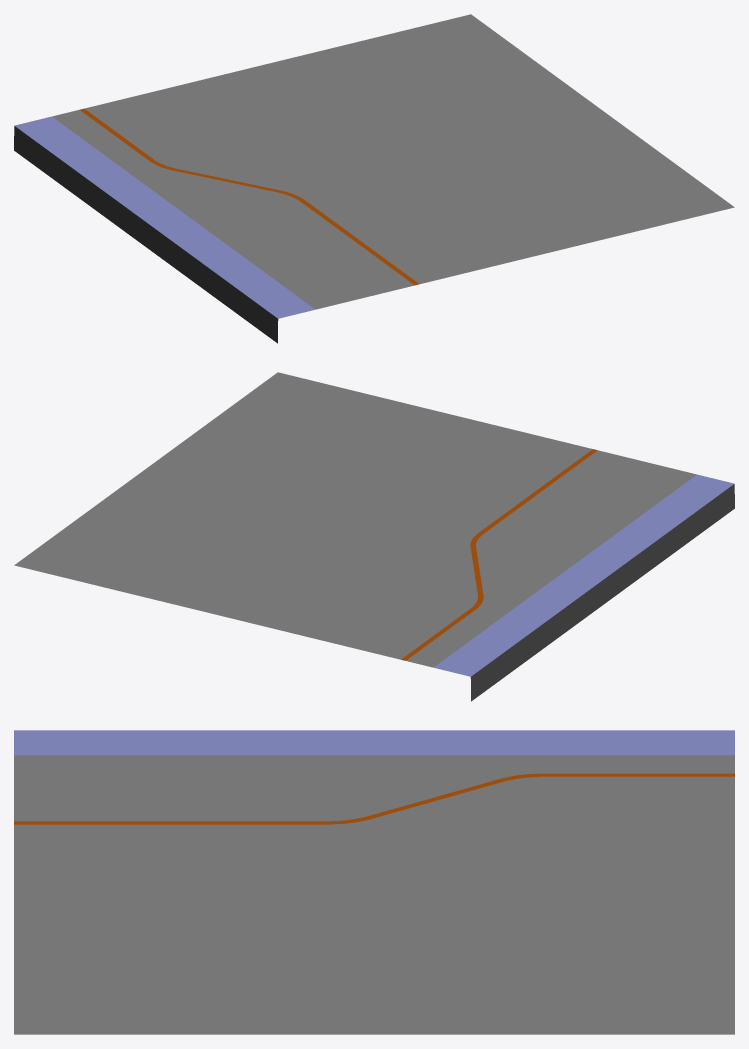
File: W_M_maze_003_4x4_Bottom_b_L1.fbx
The picture shows the model from 3 angles, top to bottom: view 1: azimuth 30°, elevation 25°; view 2: azimuth 150°, elevation 25°; view 3: azimuth 270°, elevation 25°; orthographic projection. The views are drawn at different scales.
Visible parts, largest first — view 1: W_M_maze_003_4x4_Bottom_b_L1; view 2: W_M_maze_003_4x4_Bottom_b_L1; view 3: W_M_maze_003_4x4_Bottom_b_L1.
Part boxes in pixels (left/top/right/bottom): W_M_maze_003_4x4_Bottom_b_L1: left=14, top=14, right=734, bottom=343; W_M_maze_003_4x4_Bottom_b_L1: left=14, top=372, right=734, bottom=701; W_M_maze_003_4x4_Bottom_b_L1: left=14, top=730, right=734, bottom=1034.
Bounding box in the file's own units: 4 × 0.2081 × 4.
